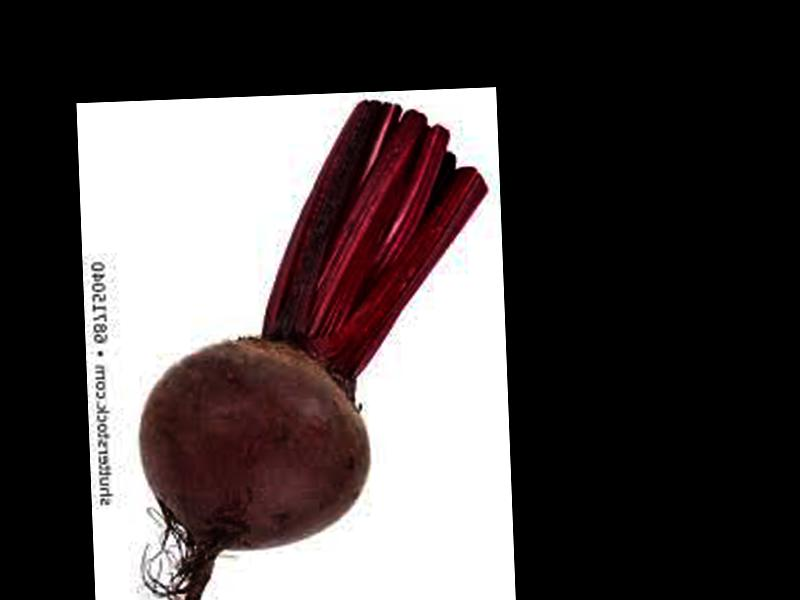Beet: (128, 95, 501, 600)
